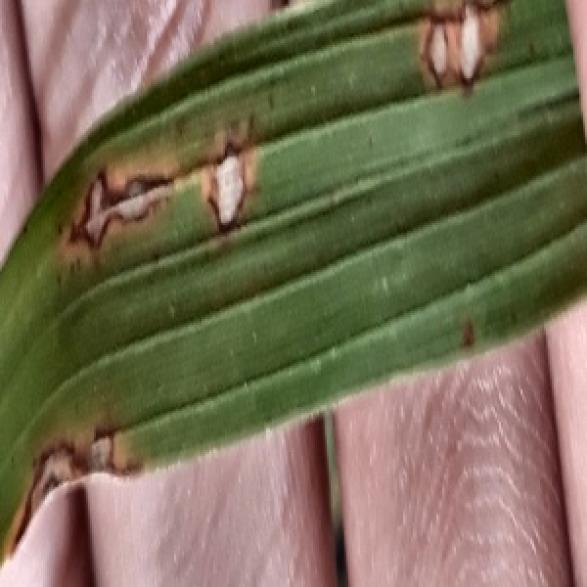Leaf_smut: (53, 110, 276, 268), (4, 417, 137, 552)
